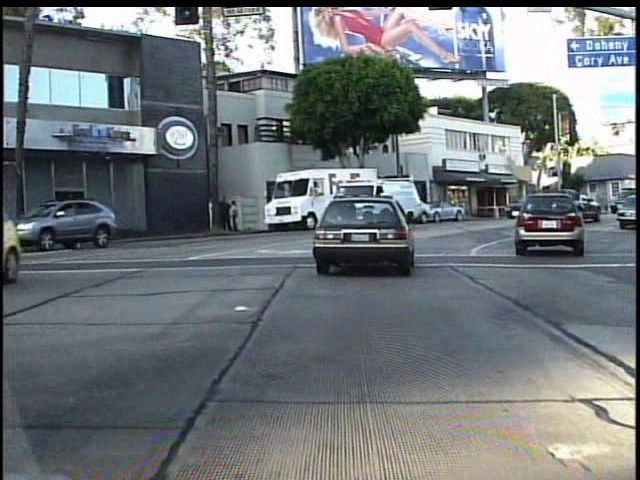person: (218, 194, 234, 234), (229, 199, 243, 235)
